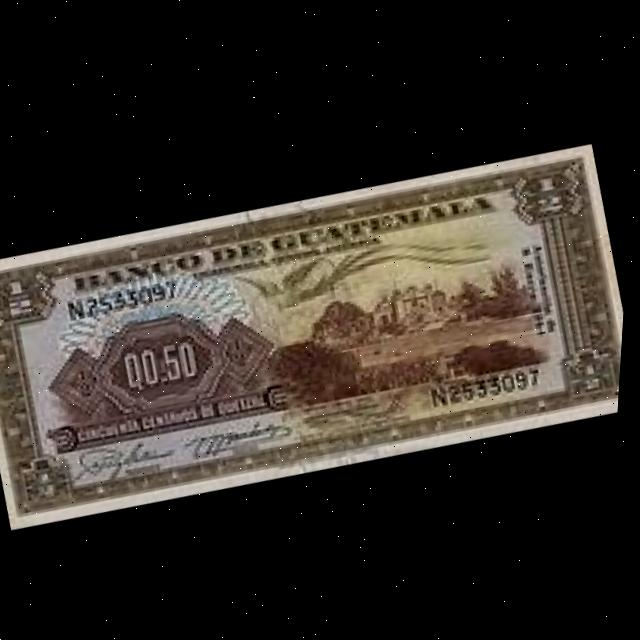banknote: (0, 110, 635, 550)
